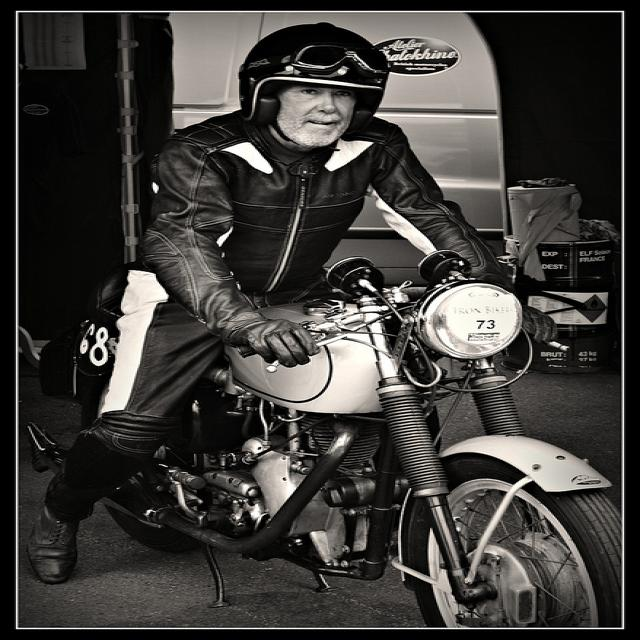motor: (105, 255, 640, 633)
